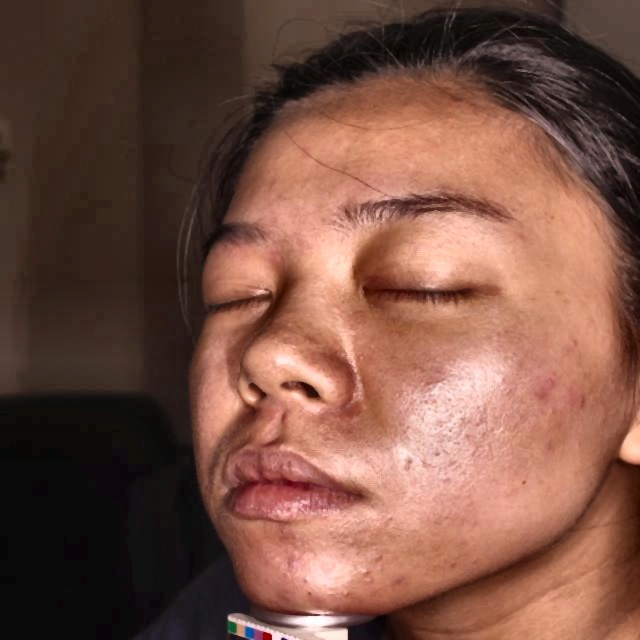comedone: (530, 374, 563, 403), (388, 568, 415, 593)
